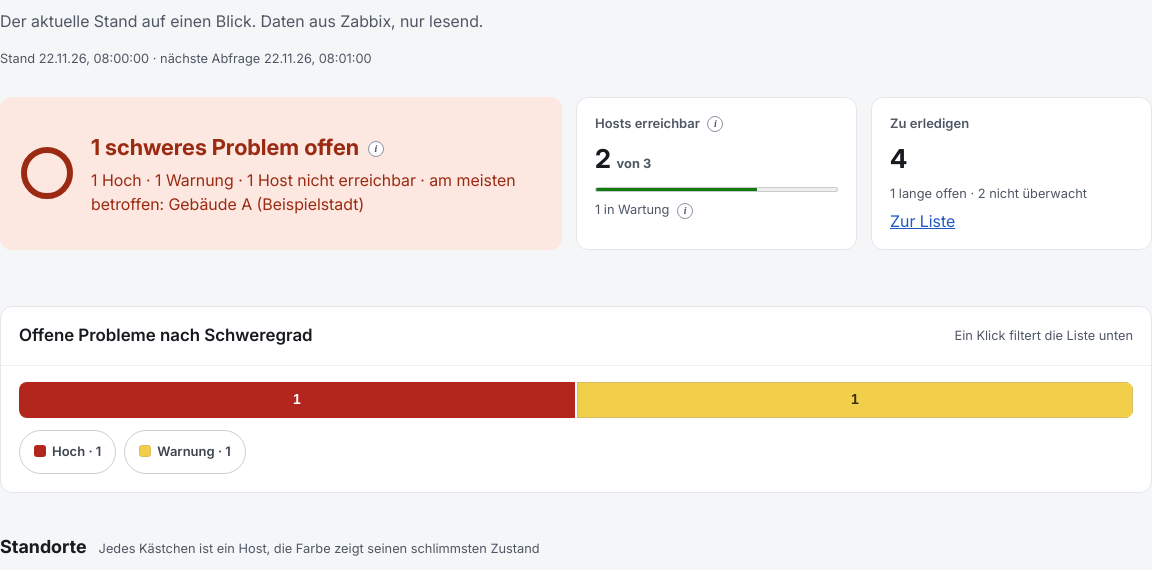
Test: ZabbixOverviewPage › zeigt Kennzahlen, Probleme als Text und filtert nach Schweregrad und Standort
This screenshot has width=1152, height=570.
Check: the heading "1 schweres Problem offen" is shown, box [91,134,388,161]
Check: the text "am meisten betroffen: Gebäude A" is shown, box [91,170,516,214]
Note: Schweregrad filtert die Liste
Click the button named "Hoch: 1 Problem": (297, 400) [19,382,575,418]
(page scrolled)
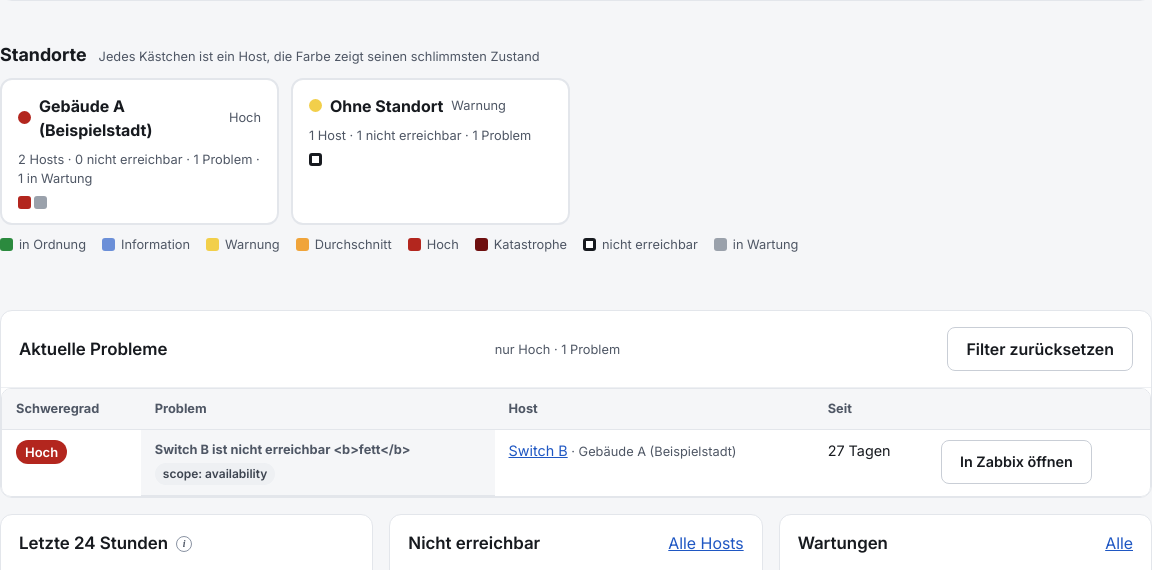
Check: the text "Zertifikat läuft ab" is not shown
Check: the text "nur Hoch · 1 Problem" is shown, box [495,340,620,359]
Click the button "Filter zurücksetzen": (1040, 349) [947,327,1133,371]
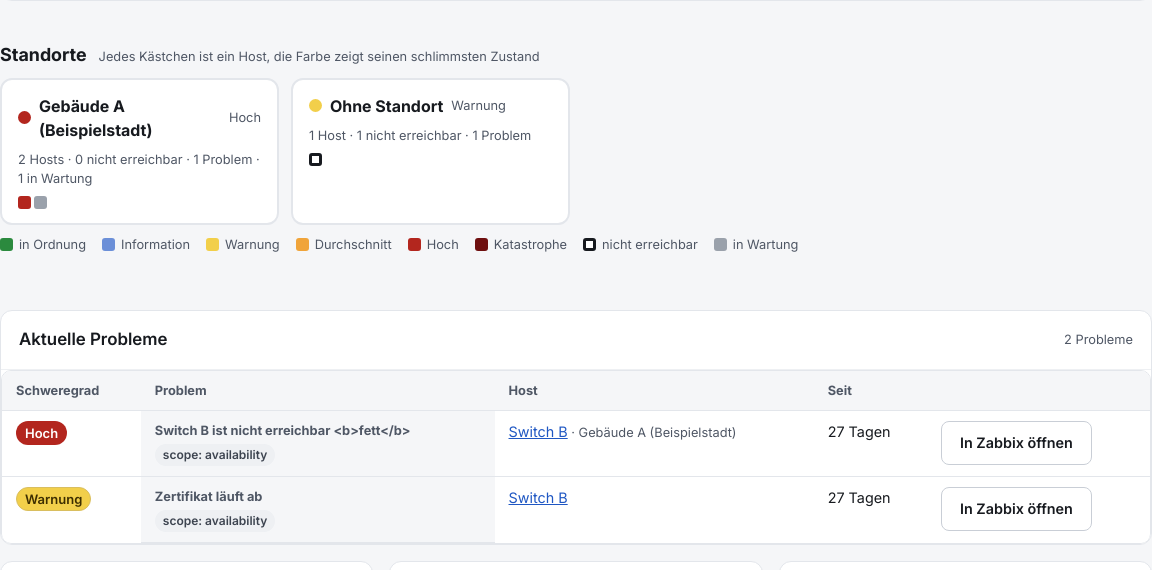
Check: the element named "Switch B: nicht erreichbar" is shown, box [309,153,322,166]
Click the button "Ohne Standort": (387, 106) [291,78,570,225]
(page scrolled)
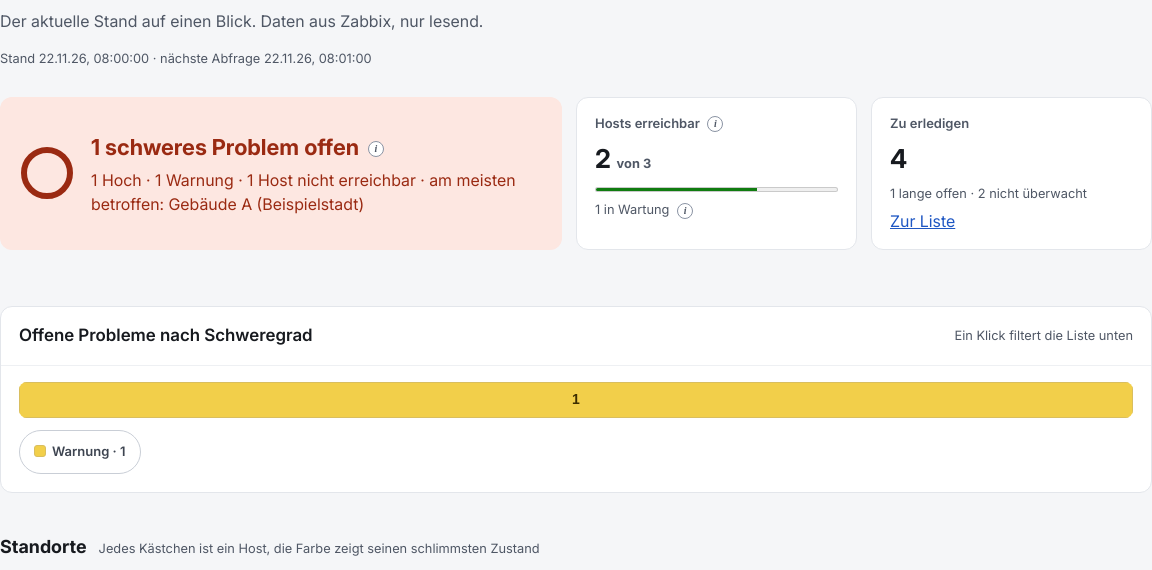
Check: the text "Stand 22.11.26, 08:00:00 · nächste Abfrage 22.11.26, 08:01:00" is shown, box [0,51,372,66]
Check: the text "Switch B ist nicht erreichbar <b>fett</b>" is gone
